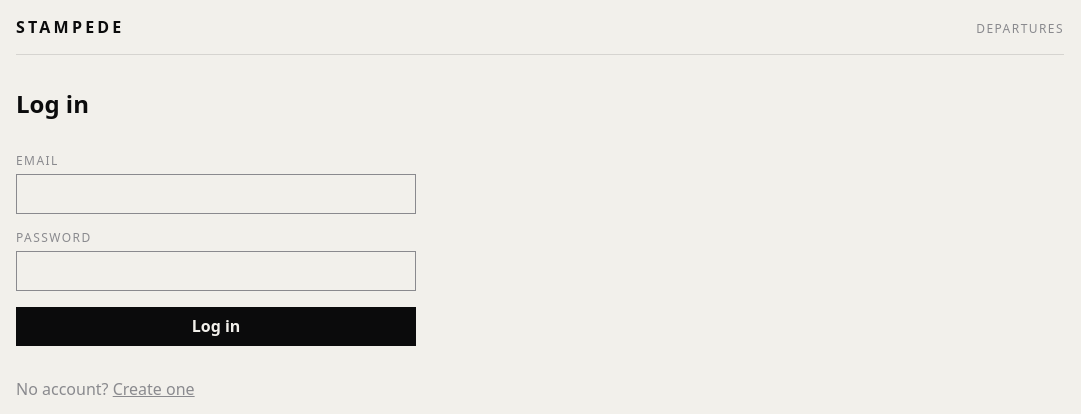
Scenario: the stored hold and who is logged in › a new login drops a hold and last order stored before it (this tab may now be someone else)
Type "fan@test.local" into the field labelled "Email" at (216, 194), box [16,174,416,214]
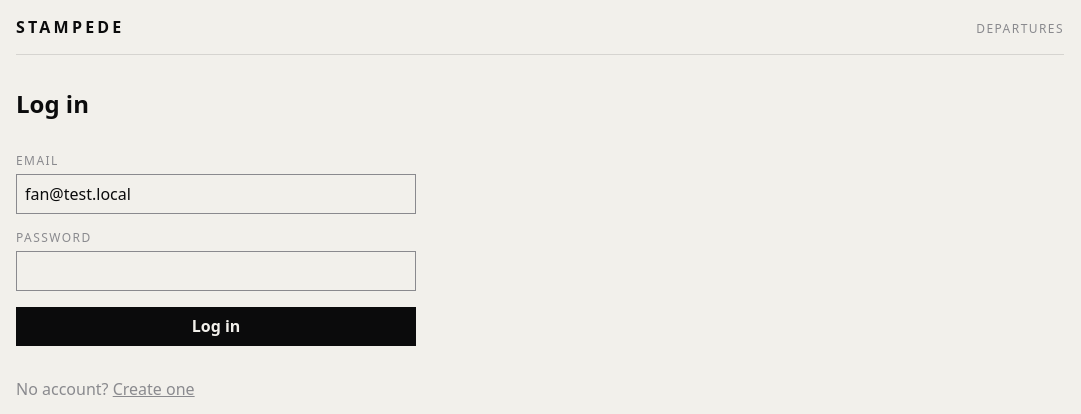
Type "correct-horse-battery" into the password field labelled "Password" at (216, 271), box [16,251,416,291]
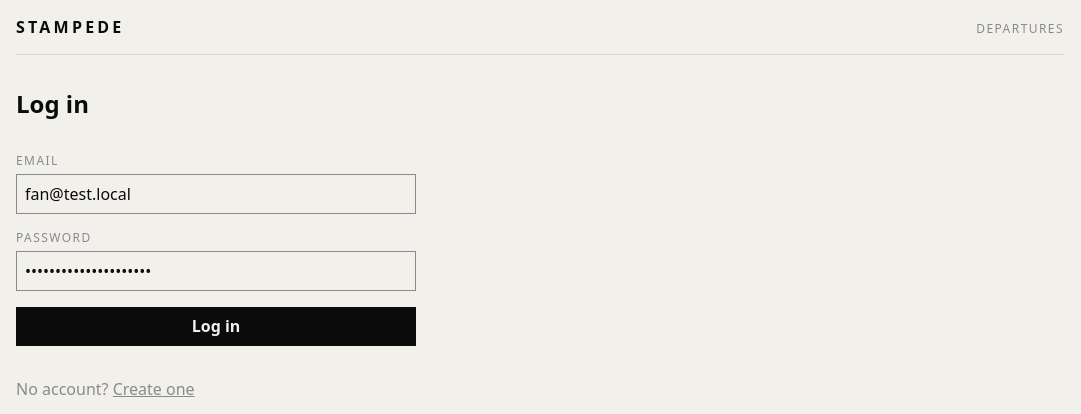
Click the button "Log in" at (216, 327), box [16,307,416,346]
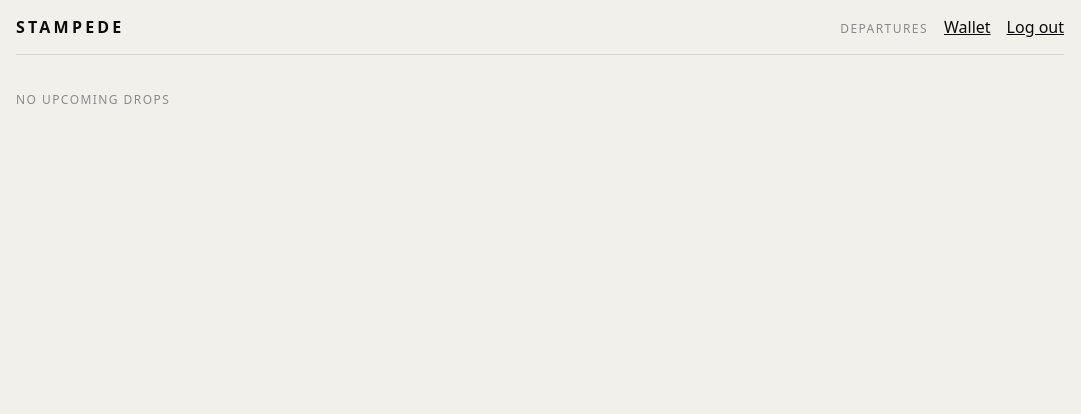
Check: the button "Log out" is shown, box [1007,16,1064,38]
